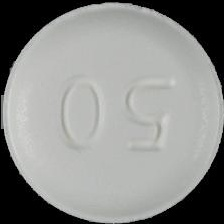0173-0778: (0, 0, 224, 224)
